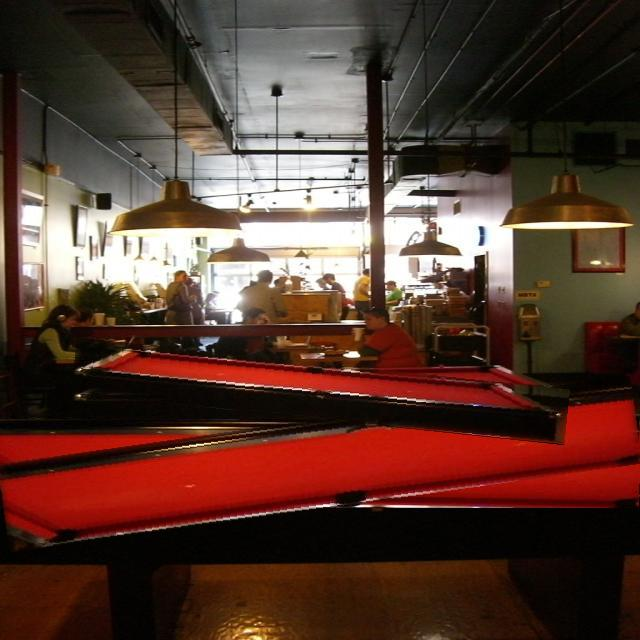Billiard table: (0, 397, 640, 530), (72, 352, 570, 432)
